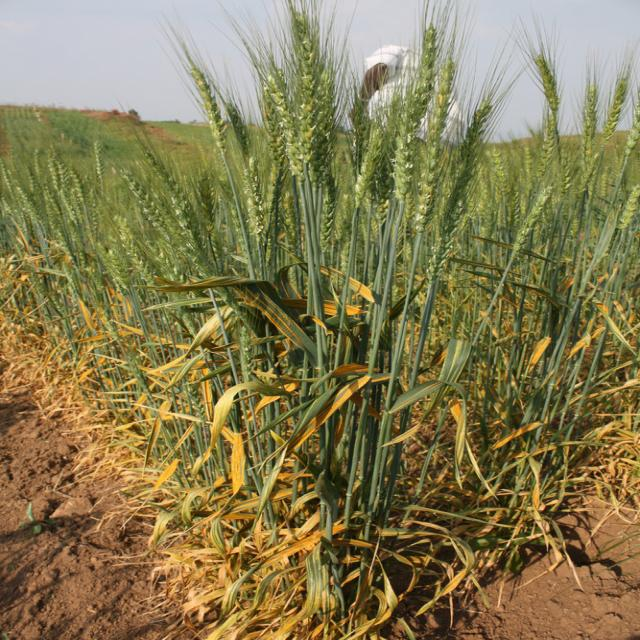wheat-yellowrust: (39, 334, 640, 640), (153, 265, 367, 399), (198, 321, 307, 495), (204, 532, 324, 640)
